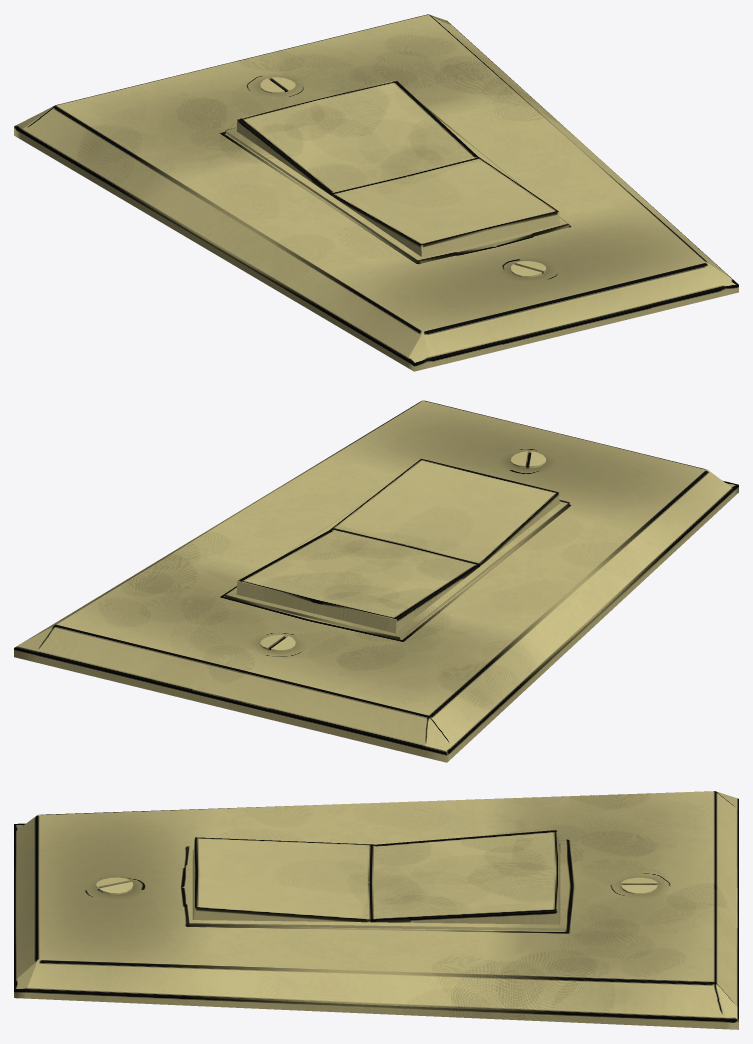
The model's file is lightswitch.glb.
3 views of the same model, one above another, from view 1: azimuth 30°, elevation 25°; view 2: azimuth 150°, elevation 25°; view 3: azimuth 270°, elevation 25° (orthographic). The views are drawn at different scales.
Parts seen in each view (by area): view 1: lightswitch_opt:lightSwitchFrame (×2), lightswitch_opt:lightSwitchSwitch; view 2: lightswitch_opt:lightSwitchFrame (×2), lightswitch_opt:lightSwitchSwitch; view 3: lightswitch_opt:lightSwitchFrame (×2), lightswitch_opt:lightSwitchSwitch.
Part boxes in pixels (left/top/right/bottom): lightswitch_opt:lightSwitchFrame (×2): left=14, top=14, right=738, bottom=371; lightswitch_opt:lightSwitchSwitch: left=236, top=80, right=559, bottom=257; lightswitch_opt:lightSwitchFrame (×2): left=14, top=400, right=738, bottom=762; lightswitch_opt:lightSwitchSwitch: left=236, top=458, right=559, bottom=633; lightswitch_opt:lightSwitchFrame (×2): left=14, top=791, right=738, bottom=1029; lightswitch_opt:lightSwitchSwitch: left=192, top=830, right=560, bottom=924.
Size of the model in its own units: 1.45 by 0.1479 by 2.
Materials: 3 (3 with a texture image).
